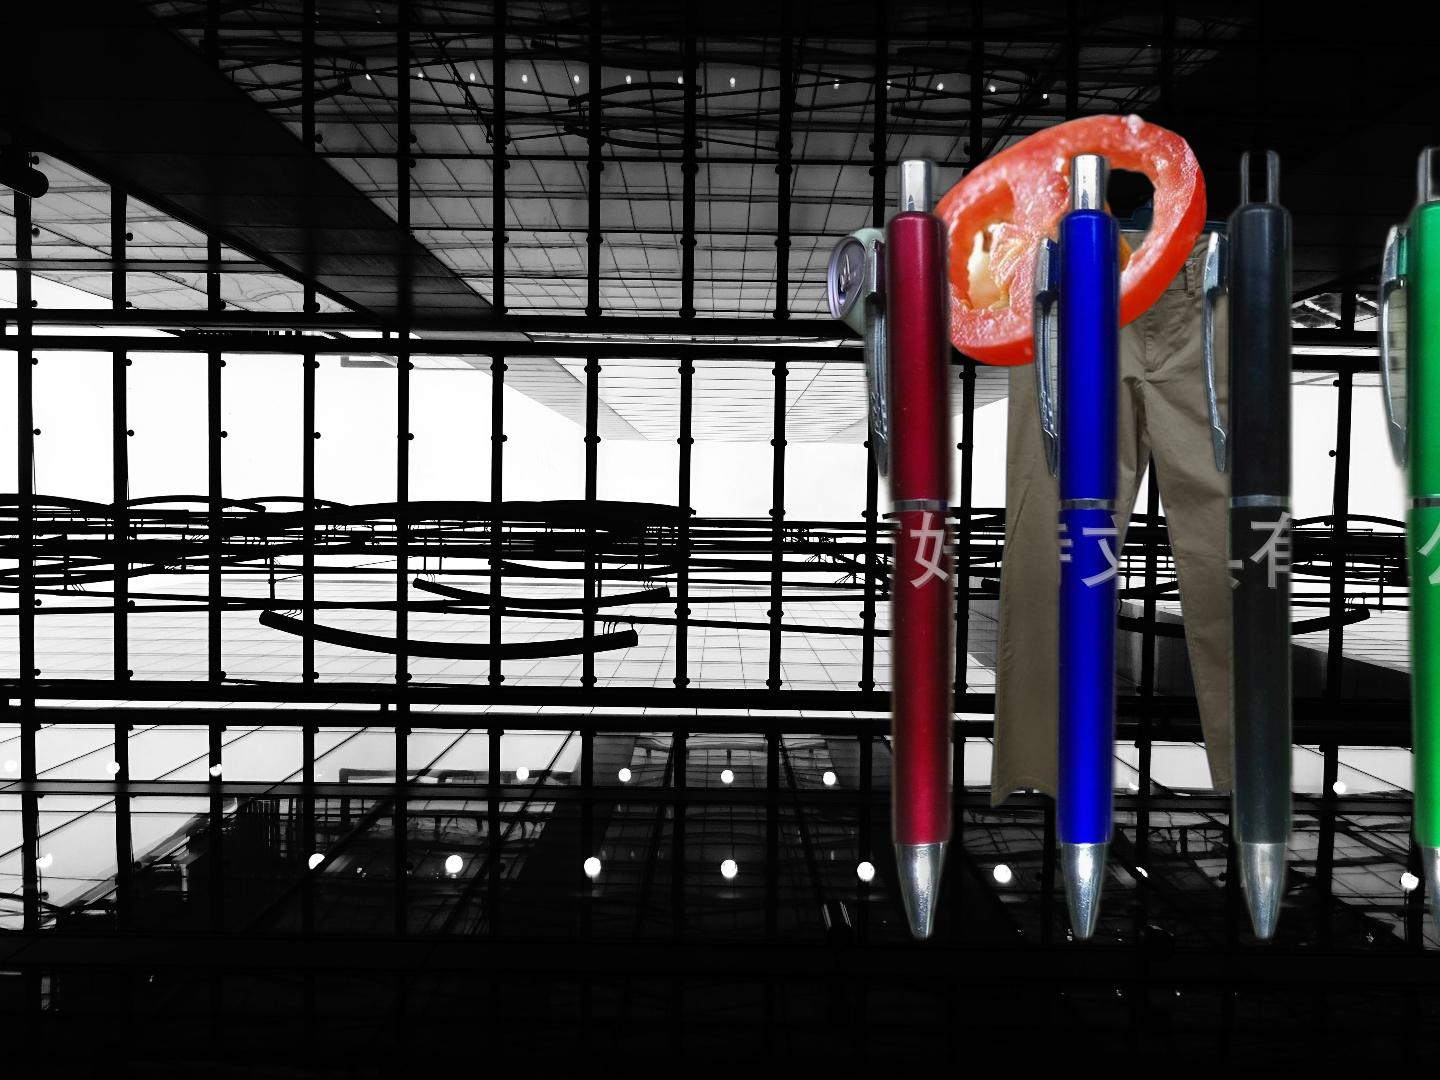biological: (863, 81, 1214, 506)
clothes: (986, 157, 1295, 815)
metal-cans: (821, 203, 1001, 361)
paper-bag: (1428, 982, 1440, 1080)
penholder: (852, 135, 1440, 954)
plastic-bottles: (1153, 176, 1440, 765)
